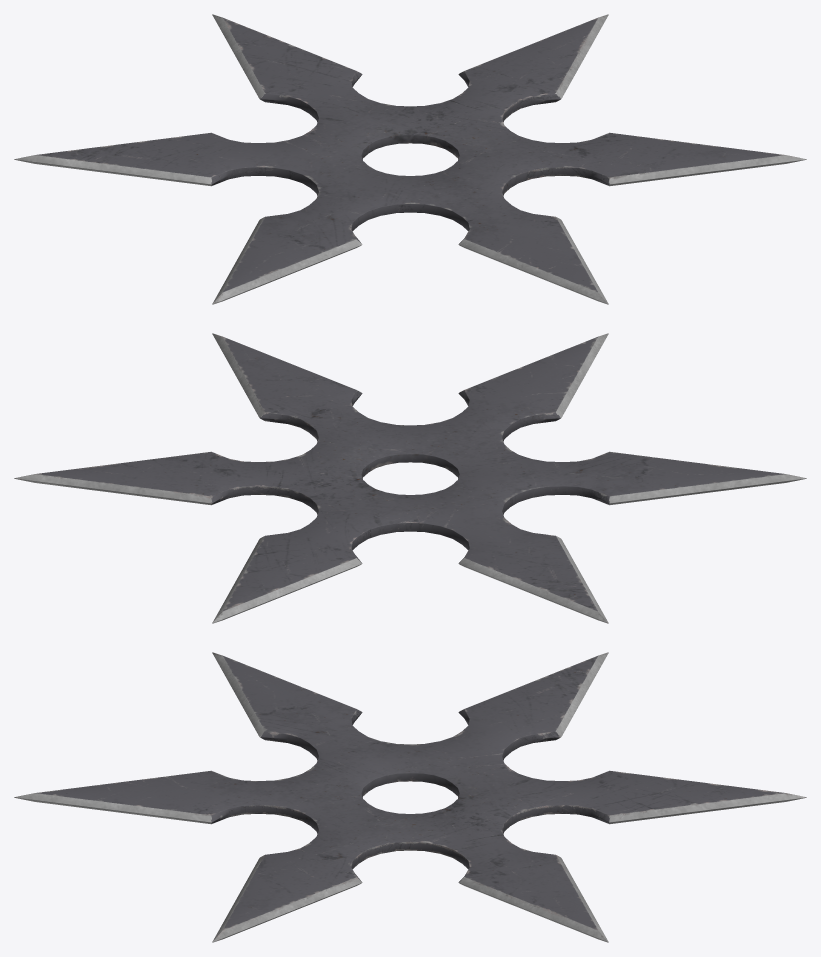
The model's file is shuriken_lp.fbx.
3 renders of one model, top to bottom at view 1: azimuth 30°, elevation 25°; view 2: azimuth 150°, elevation 25°; view 3: azimuth 270°, elevation 25°, orthographic.
Parts seen in each view (by area): view 1: Shuriken; view 2: Shuriken; view 3: Shuriken.
Boxes of the visible parts, x1,y1,x2,y2 form: Shuriken: [14, 14, 806, 304]; Shuriken: [14, 333, 806, 623]; Shuriken: [14, 652, 806, 942].
Bounding box in the file's own units: 17.07 × 0.2476 × 19.71.
